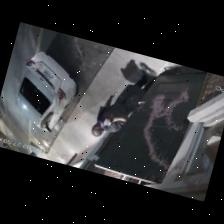person: (91, 74, 153, 136)
